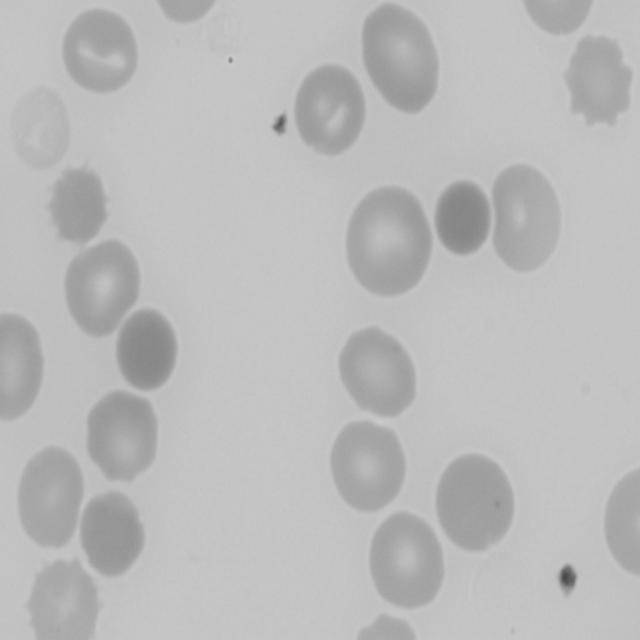RBC: (344, 184, 434, 298), (360, 0, 444, 113), (434, 443, 520, 553), (490, 162, 570, 276), (65, 232, 145, 338), (329, 418, 412, 520), (367, 510, 448, 613), (17, 439, 90, 551), (60, 2, 146, 96), (338, 324, 422, 420), (290, 59, 368, 160), (86, 388, 162, 487), (560, 28, 636, 126), (26, 556, 102, 640), (80, 487, 149, 577), (0, 312, 46, 422), (599, 461, 640, 578), (48, 164, 106, 245), (519, 0, 600, 39), (149, 0, 225, 28)
Spherocyte: (115, 306, 178, 394), (430, 176, 492, 260)
